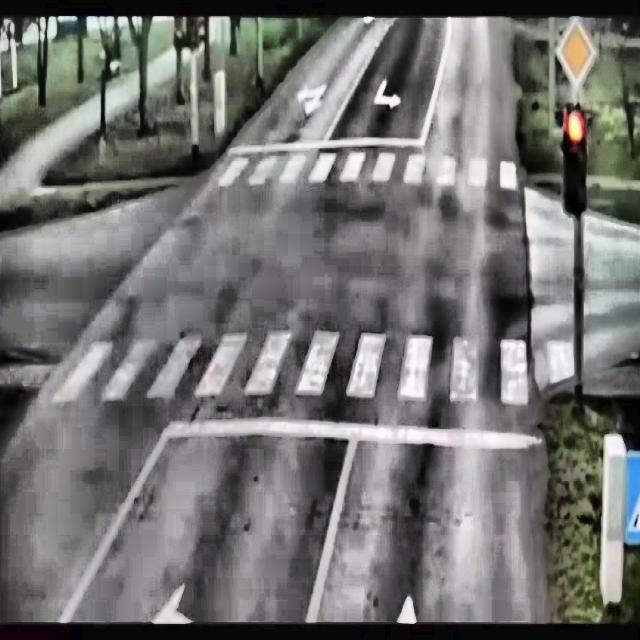red: (556, 98, 594, 227)
